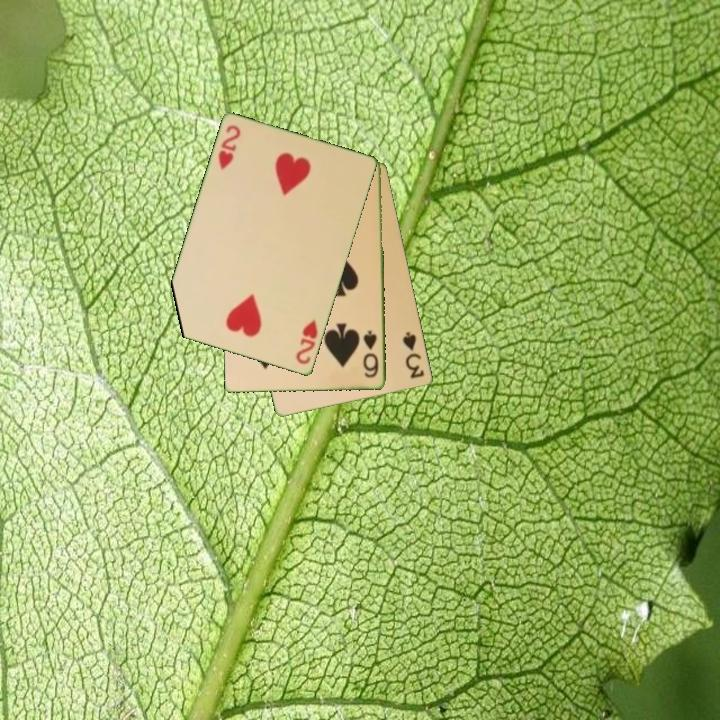2h: (292, 316, 321, 368), (215, 122, 244, 173)
3s: (399, 328, 427, 382)
6s: (360, 328, 382, 380)
